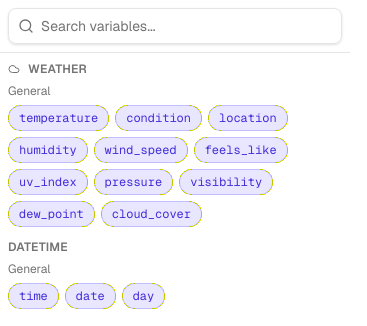
Scenario: VariablePickerContent › shows no results message when search has no matches
Type "nonexistentvariable123" into the field with placeholder "Search variables..." at (175, 26), box [8,8,342,44]
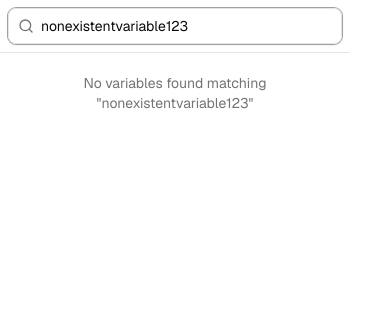
Check: the text "No variables found matching \"nonexistentvariable123\"" is shown, box [83,74,267,112]
